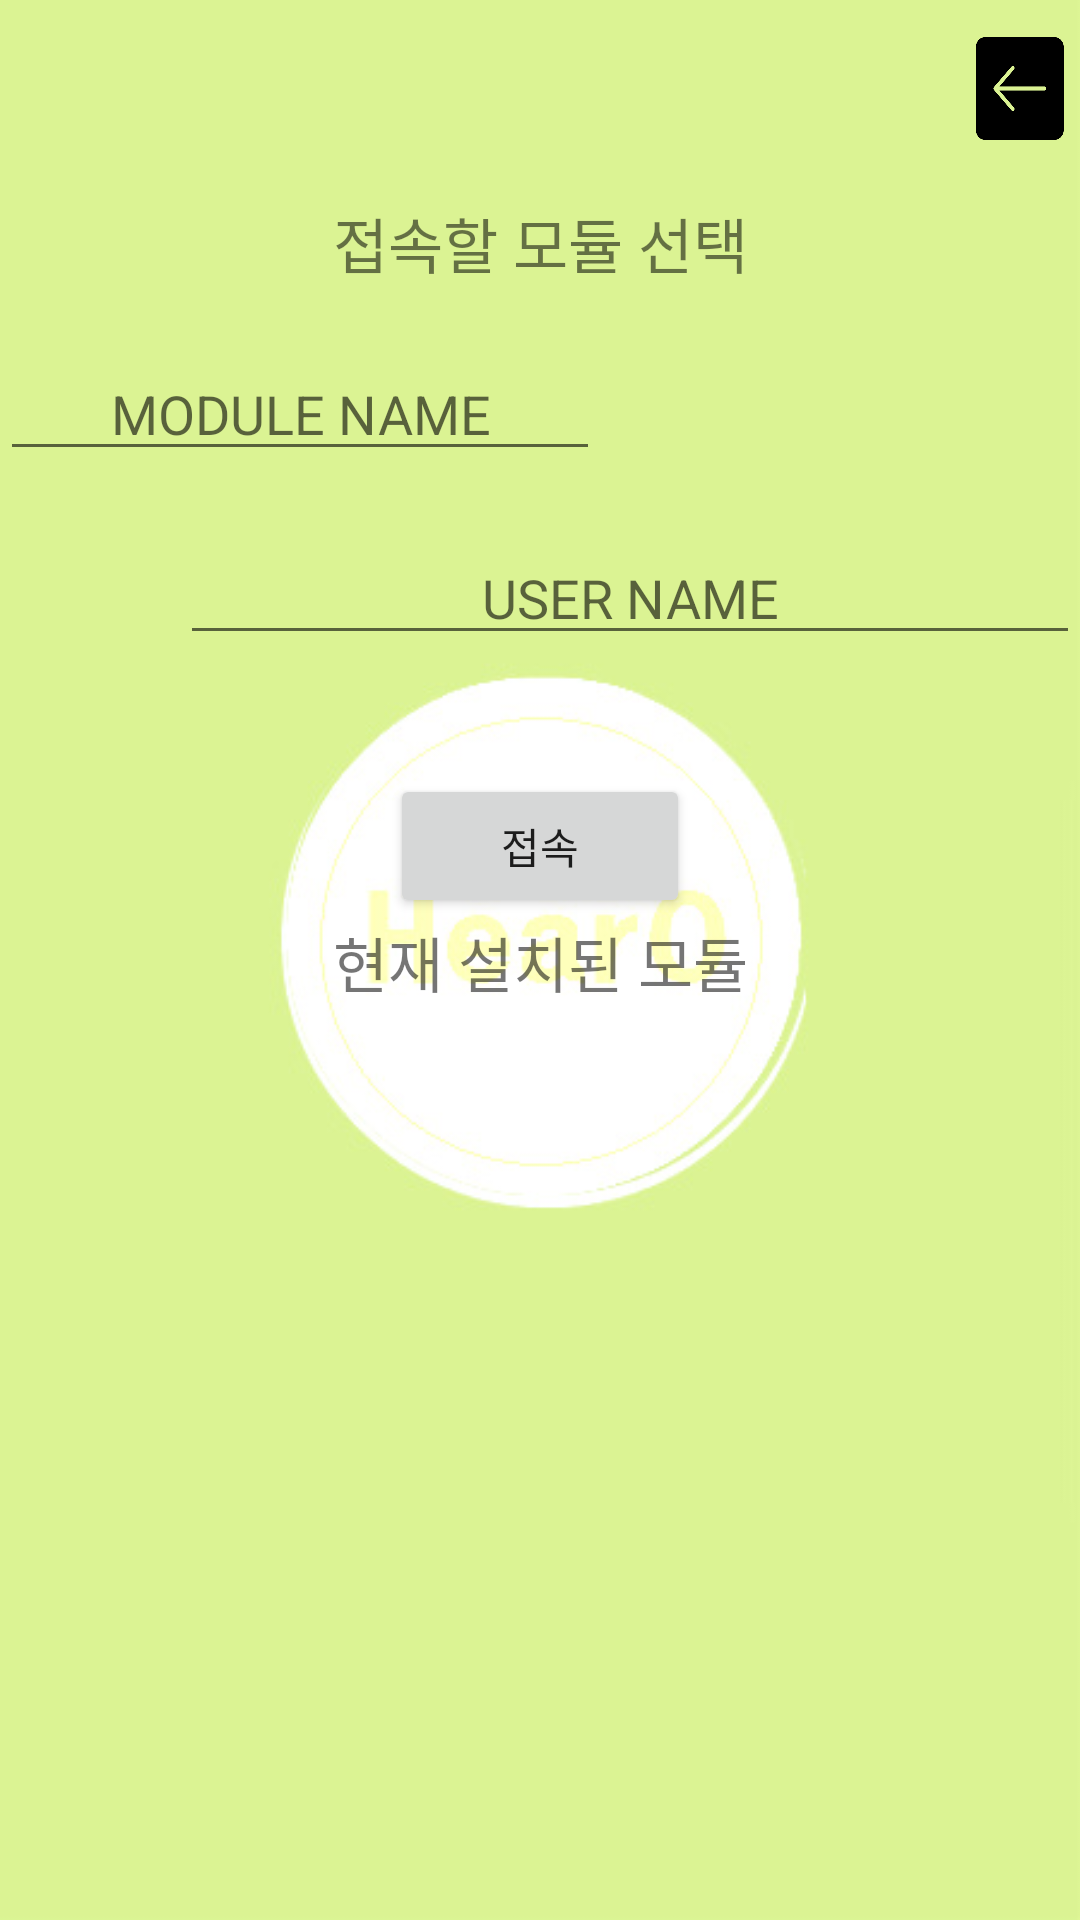

Screen size 1080×1920. Icon name, then its box in pixels as box(x1, y1, x2, y2):
backimgj: box(976, 37, 1064, 140)
